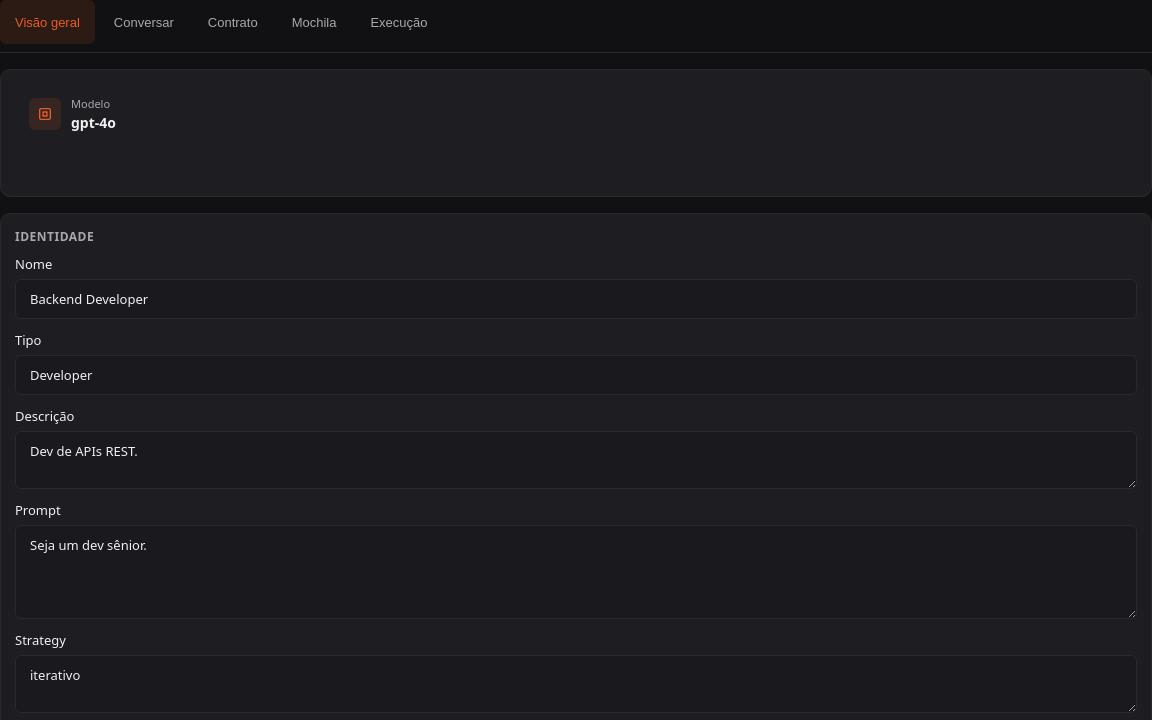
AgentDetail › has an editable 'Modelo configurado' field in Execução tab
The image size is (1152, 720).
Click the tab "Execução" at {"x": 399, "y": 22}, box [356,0,443,44]
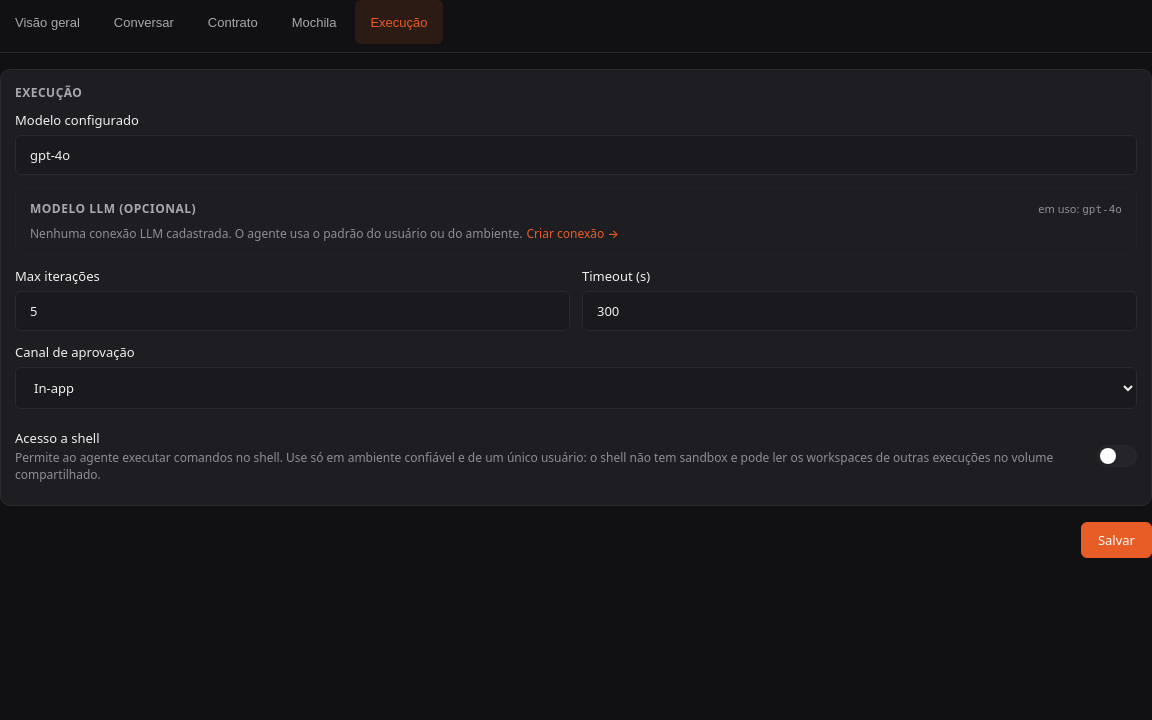
Expected: the field labelled "Modelo configurado" holds "gpt-4o", [15,135,1137,175]
